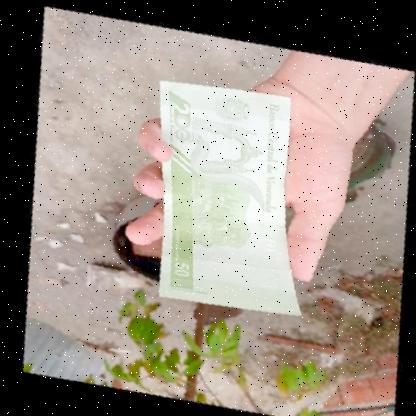fifty-back-vef: (105, 51, 350, 339)
